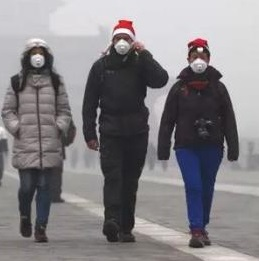person: (82, 18, 168, 244), (156, 37, 240, 247), (4, 36, 78, 243), (1, 138, 11, 187), (148, 143, 157, 171), (70, 147, 78, 170), (83, 148, 91, 169)
